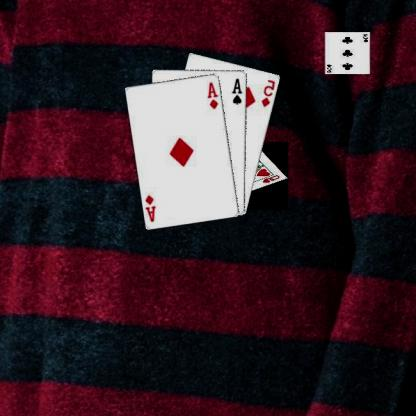5D: (260, 77, 278, 108)
AD: (207, 79, 221, 110), (144, 192, 158, 223)
AS: (231, 76, 246, 106)
